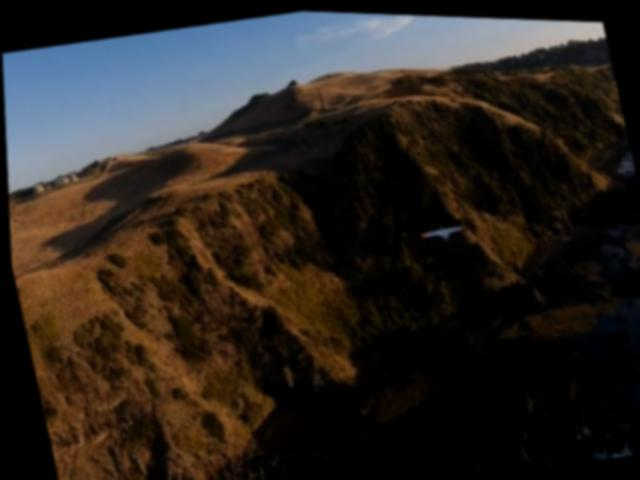uav: (412, 214, 468, 245)
